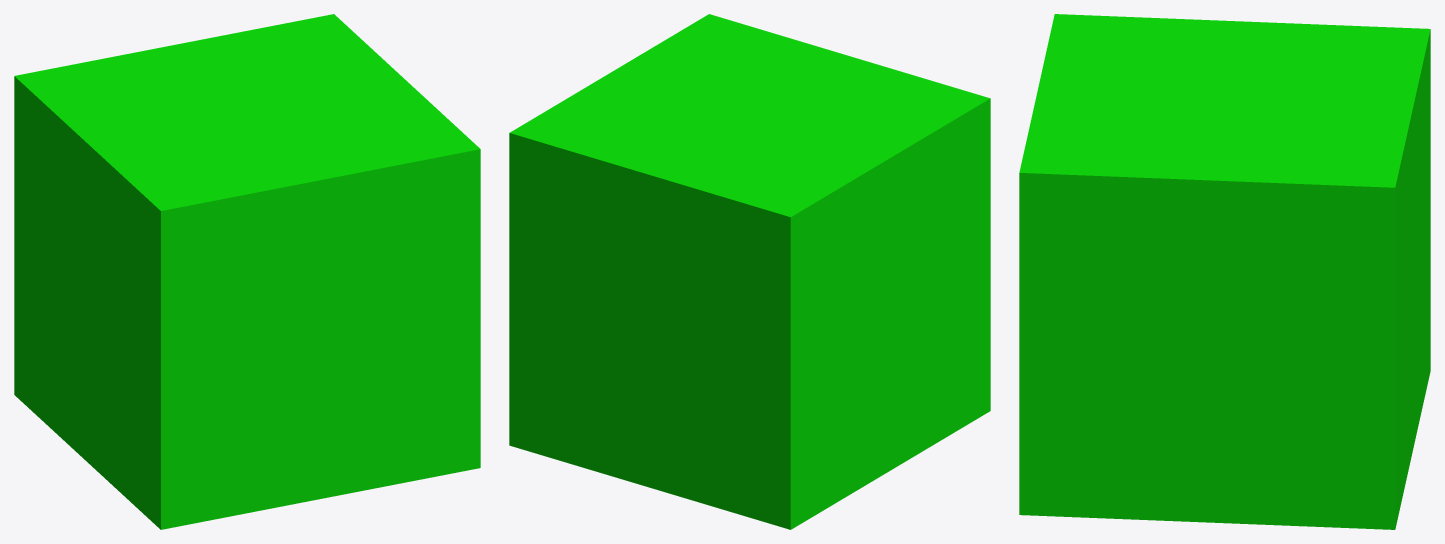
The picture shows the model from 3 angles, left to right: view 1: azimuth 30°, elevation 25°; view 2: azimuth 150°, elevation 25°; view 3: azimuth 270°, elevation 25°; orthographic projection. The views are drawn at different scales.
Visible parts, largest first — view 1: Cube.031; view 2: Cube.031; view 3: Cube.031.
Part boxes in pixels (<box>): Cube.031: <box>14,14,480,529</box>; Cube.031: <box>509,14,990,529</box>; Cube.031: <box>1019,14,1430,529</box>.
Bounding box in the file's own units: 218 × 200 × 218.
